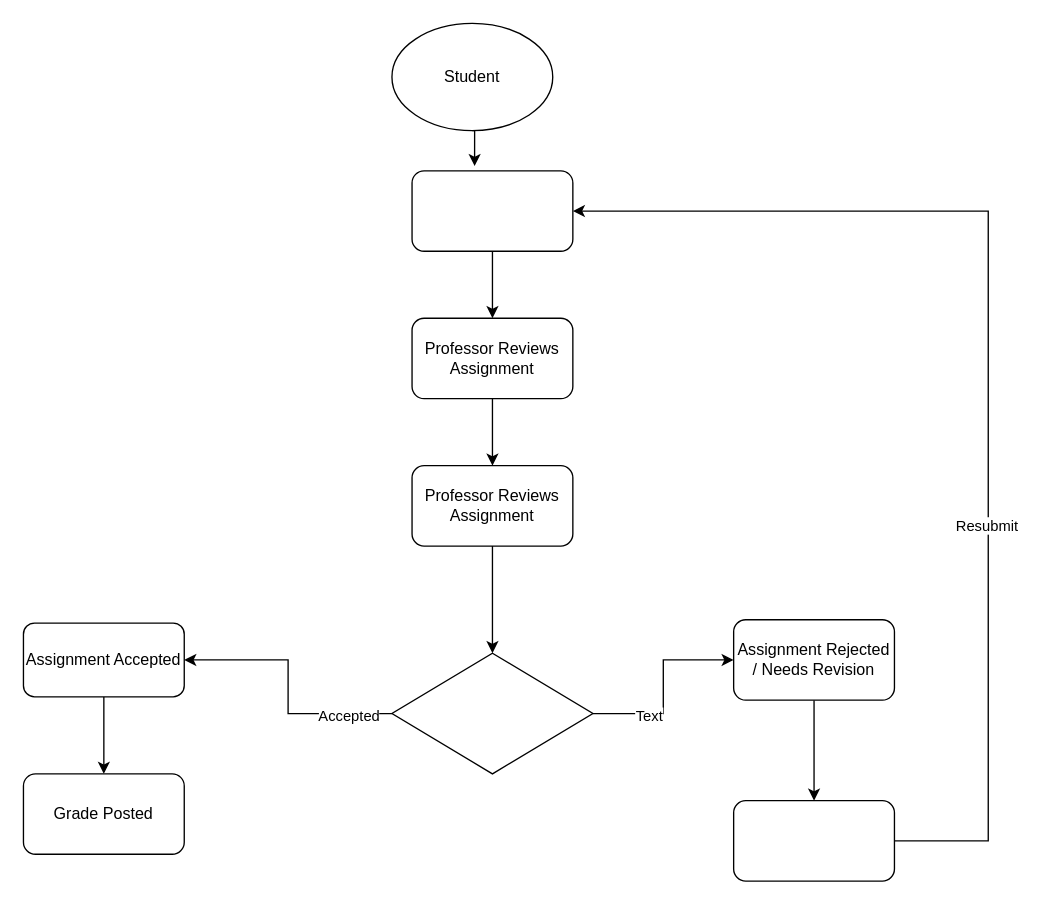
The diagram is 1040 pixels wide and 905 high, and some of its shapes have lost their labels. The shapes that lost their labels are listed below. From the top down, each one's centre as x and y in pixels, then its label:
At (x=492, y=210): "Submit Assignment".
At (x=492, y=713): "Assignment Meets Requirements?".
At (x=813, y=840): "Student Revises and Resubmits".
